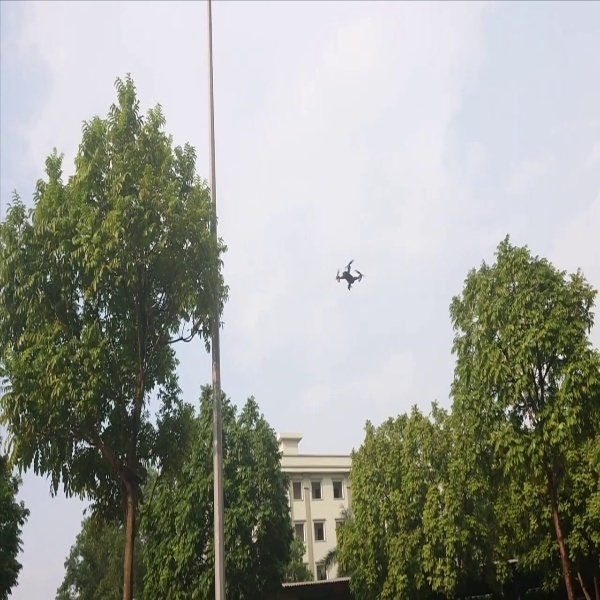drone: (329, 256, 368, 293)
